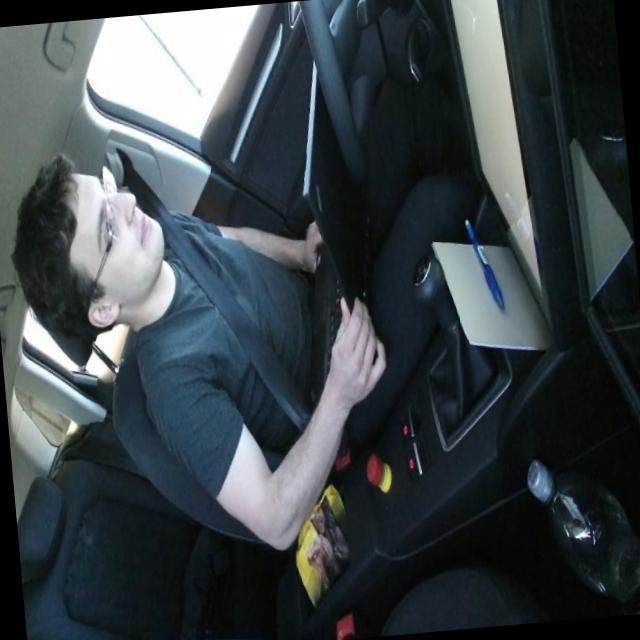pen: (462, 214, 504, 314)
